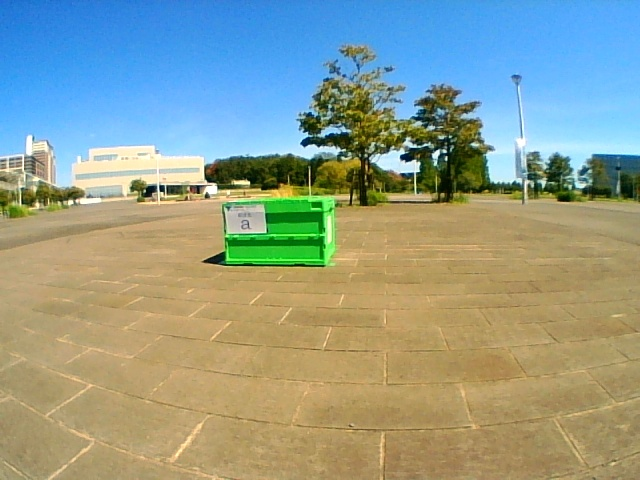green_box: (223, 196, 334, 265)
tag_a: (227, 204, 264, 233)
